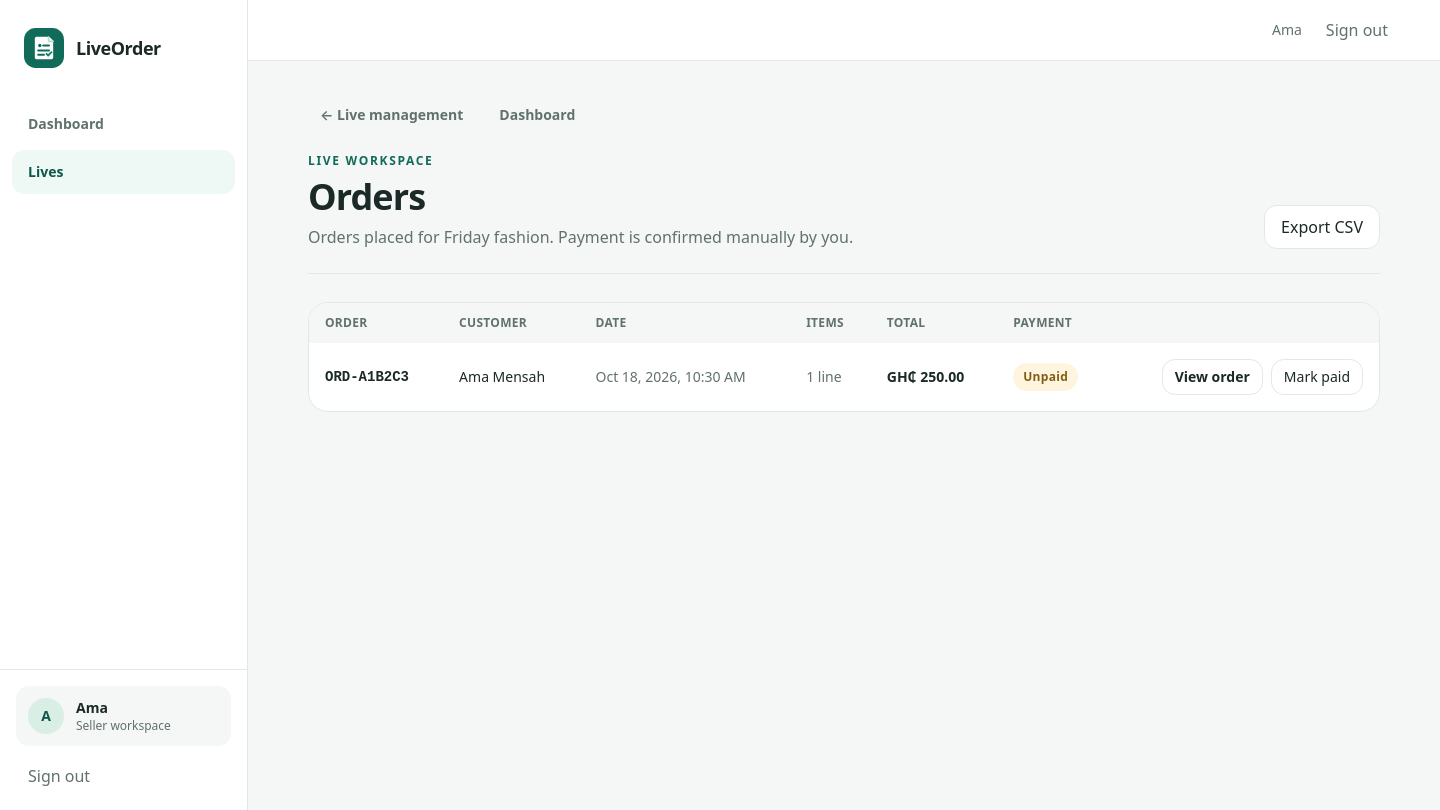
Scenario: seller order management › confirms and updates payment status, with no action shown for paid orders
Click the button "Mark paid". click: click(1317, 377)
box: [1271,359,1363,395]
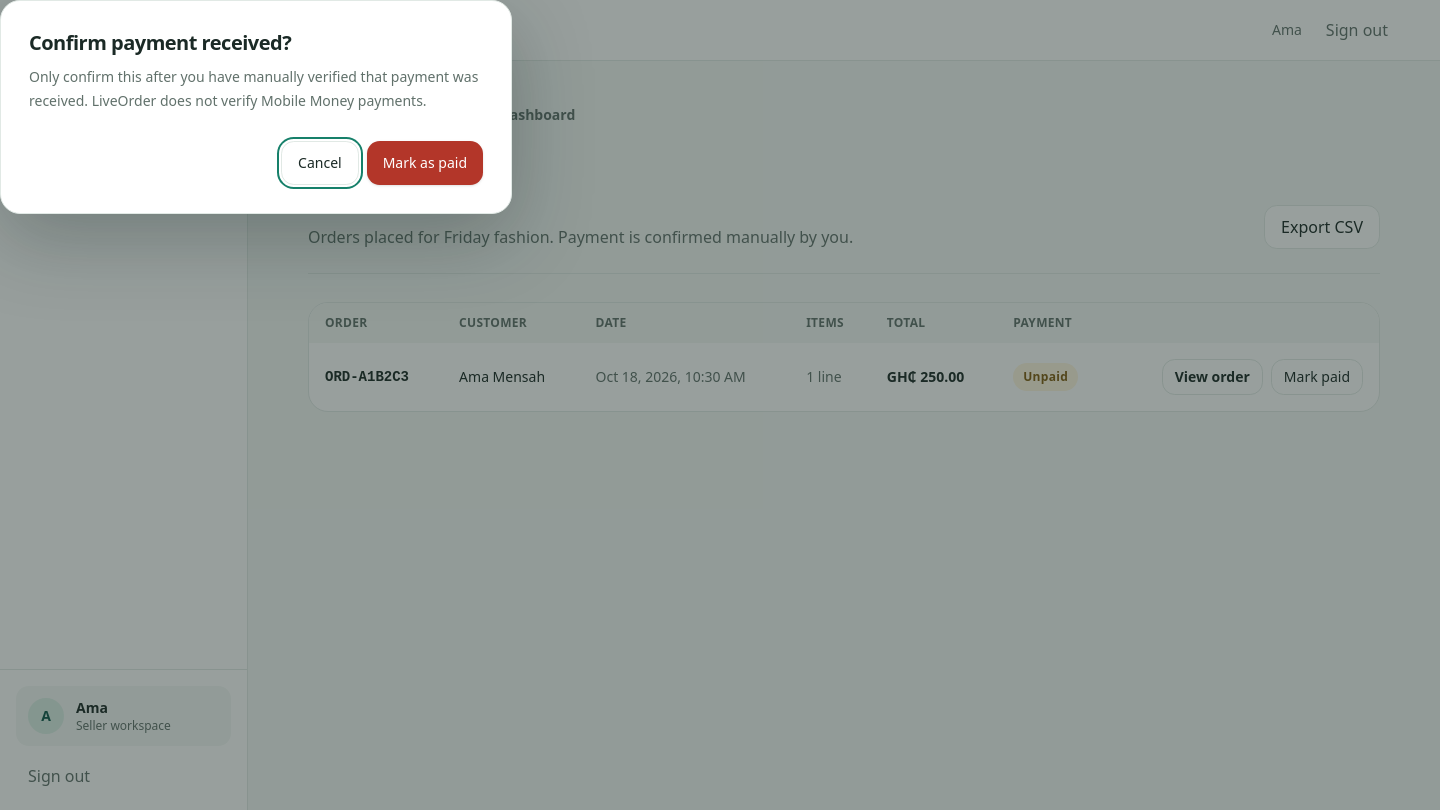
Result: the dialog "Confirm payment received?" is shown at [0,0,512,214]
Click the button "Mark as paid". click: click(425, 163)
box: [367,141,483,185]
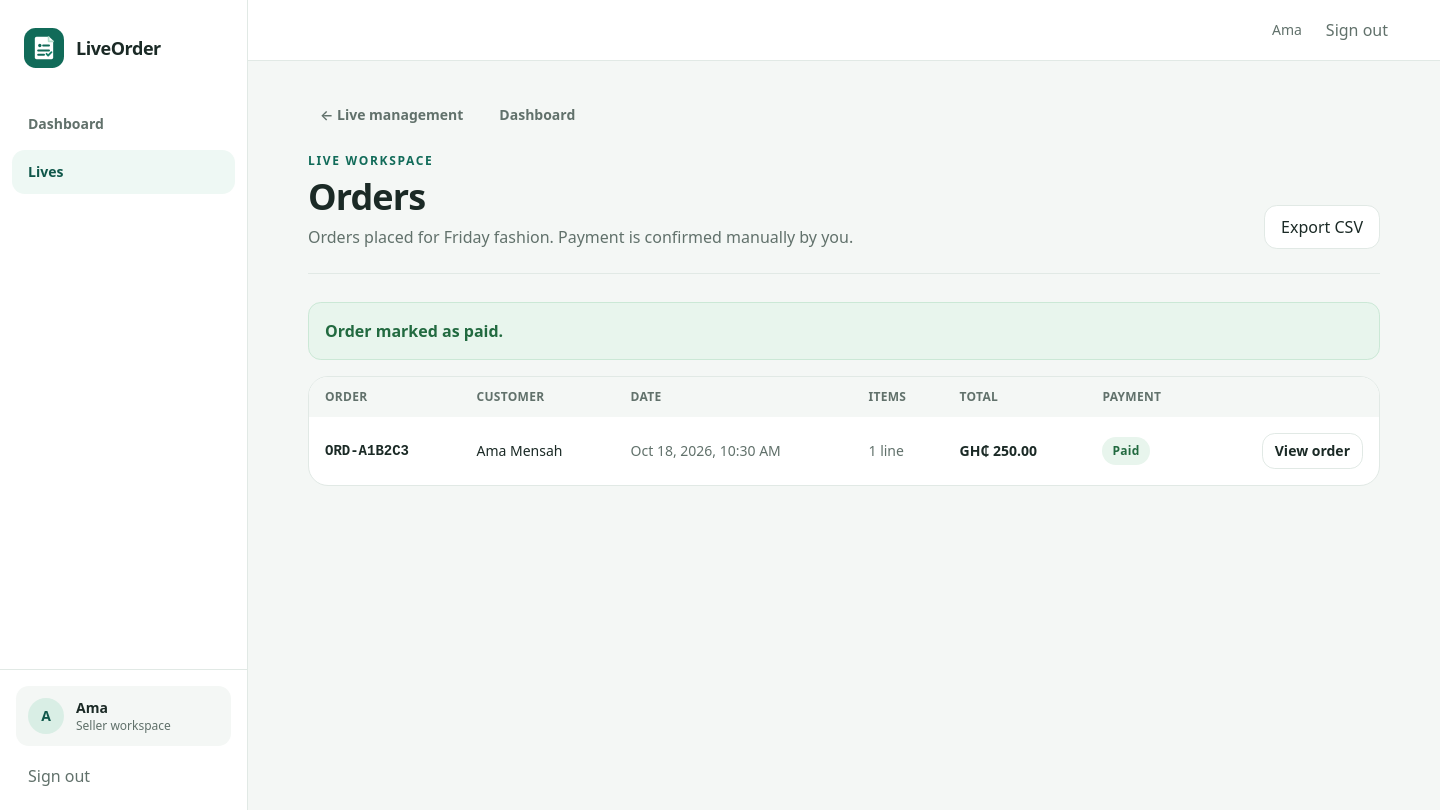
Result: the text "Order marked as paid." is shown at [325,320,503,342]
Result: the button "Mark paid" is gone
